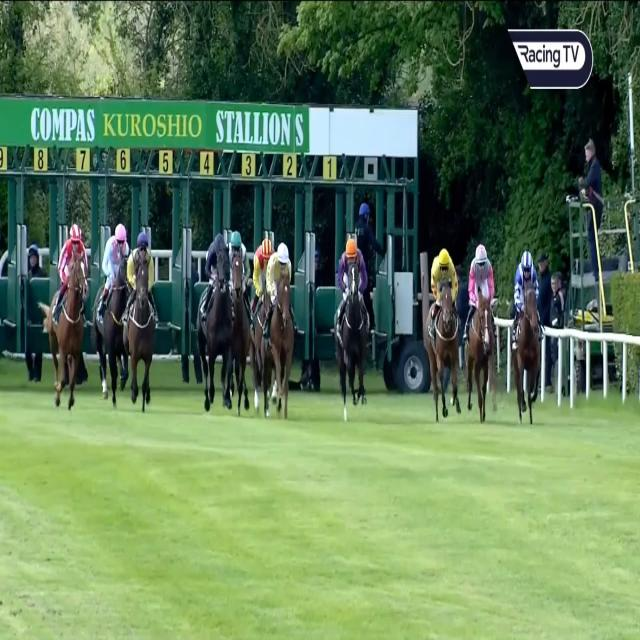horses-racing: (47, 220, 90, 400), (193, 231, 233, 414), (336, 238, 374, 417), (257, 244, 296, 409), (466, 241, 501, 424), (96, 221, 128, 397), (126, 230, 155, 418), (429, 243, 460, 415), (514, 248, 544, 420), (229, 229, 253, 414), (253, 232, 275, 344)
